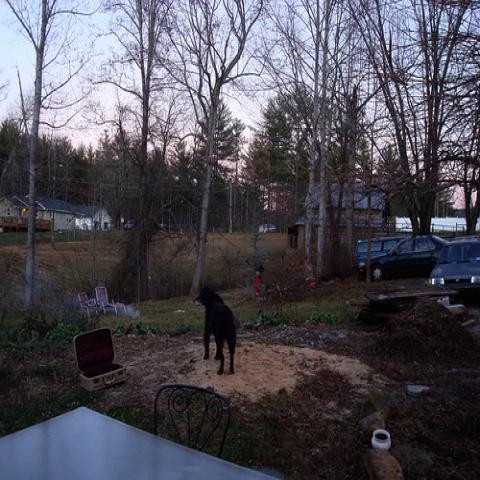car: (357, 232, 447, 281), (428, 239, 479, 288), (355, 236, 410, 264), (262, 222, 277, 233)
